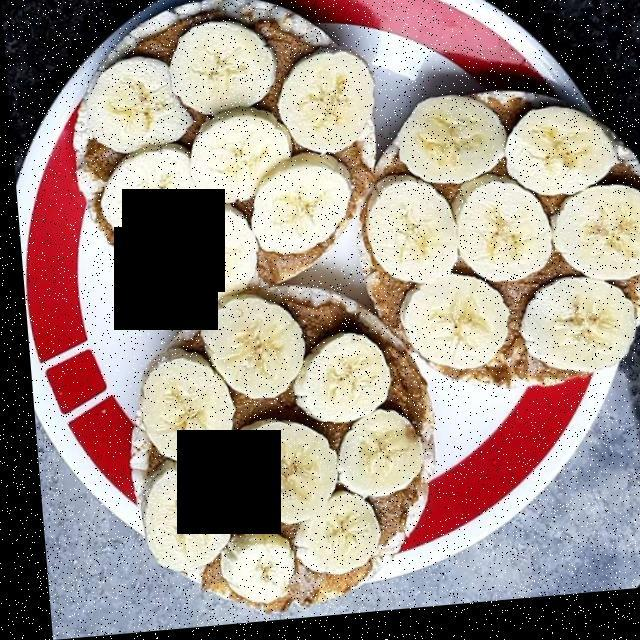banana: (78, 23, 640, 593)
rice: (64, 0, 640, 611)
